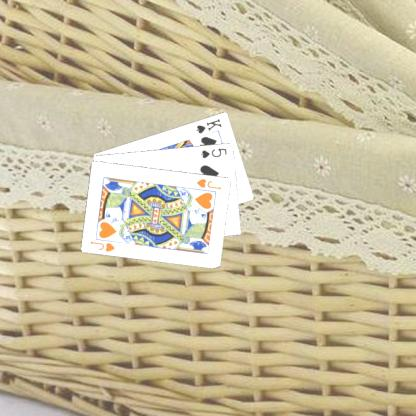5S: (198, 145, 229, 159)
JH: (88, 238, 116, 253), (194, 176, 222, 190)
KS: (193, 116, 224, 134)
